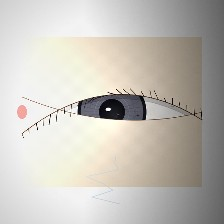foreign_body_visible: (97, 131, 121, 150)
